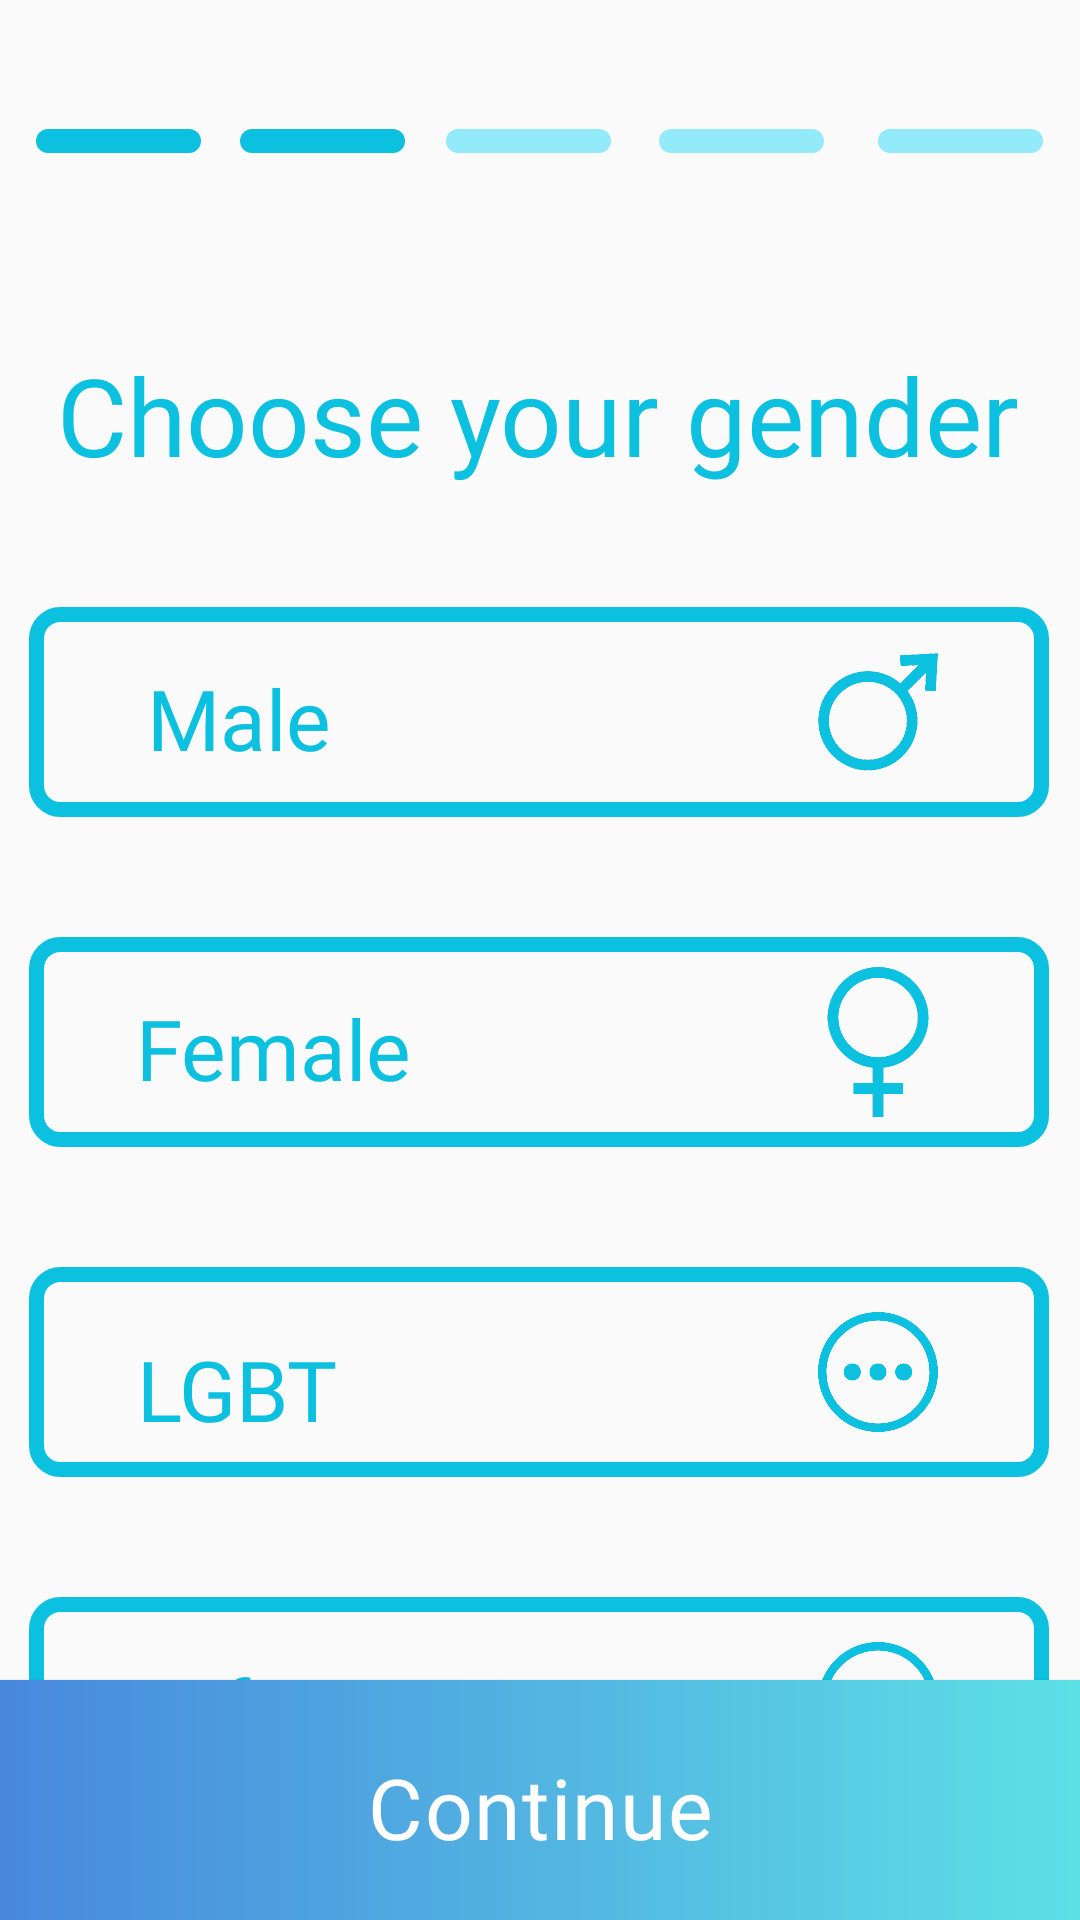

Screen size 1080px×1920px. Icon name, then its center in pixels as (x=x, y=y):
female: (x=878, y=1042)
male: (x=878, y=712)
